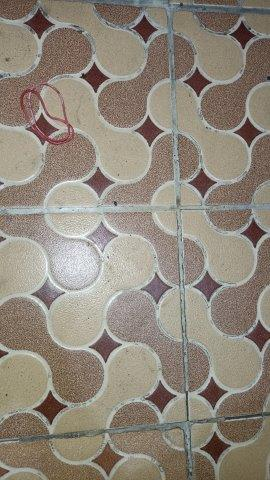karet: (20, 82, 75, 144)
